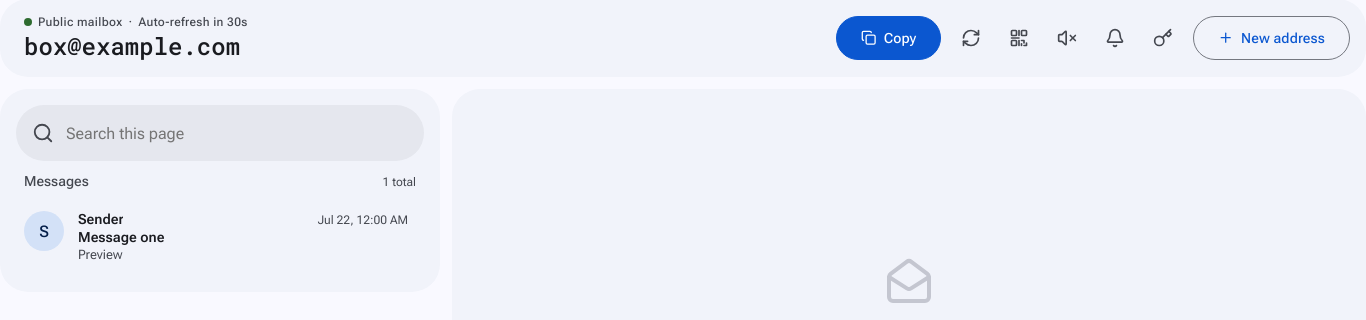
InboxView polling › starts a fresh visibility refresh when an older request is pending
The image size is (1366, 320).
Click the button named "Refresh": (972, 38) [950,16,994,60]
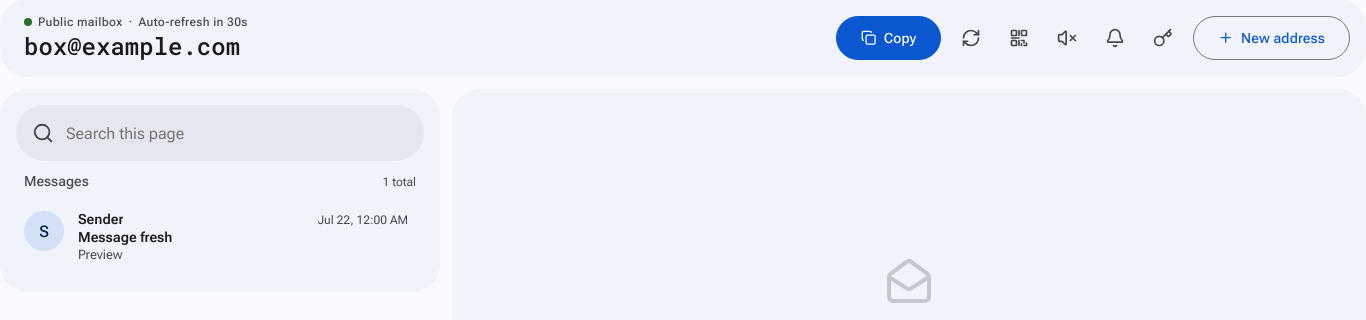
Result: the text "Message fresh" is shown at [78,229,172,245]
